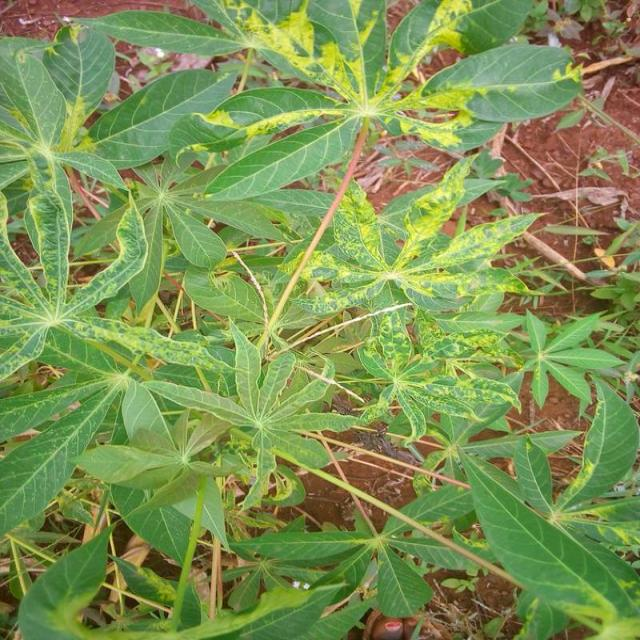cassava leaf: (2, 1, 638, 638), (420, 42, 585, 124)
